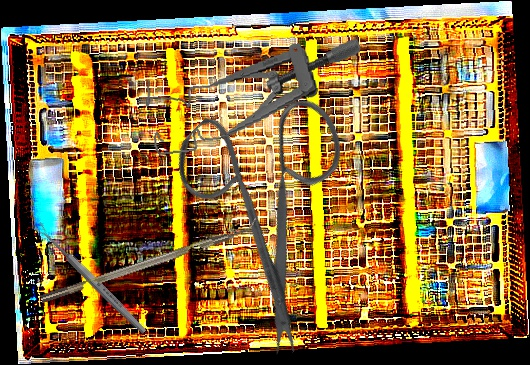Chopper: (36, 214, 261, 303)
Iris Scissors: (120, 54, 430, 363)
Speculum: (141, 36, 370, 156)
Surgical Spoon: (34, 221, 148, 336)
